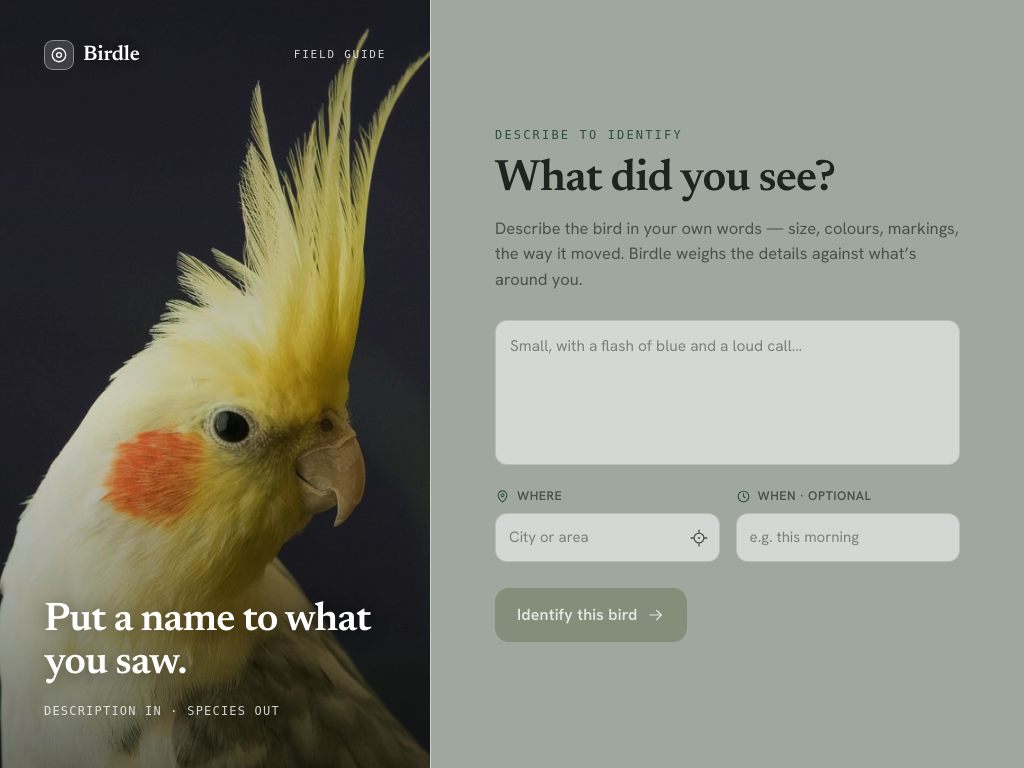
it: Home — HITL conversation flow › shows an inconclusive answer when no species is returned
The image size is (1024, 768).
Type "small red bird with a crest" into the text box named "what did you see" at (728, 393), box [495,320,960,465]
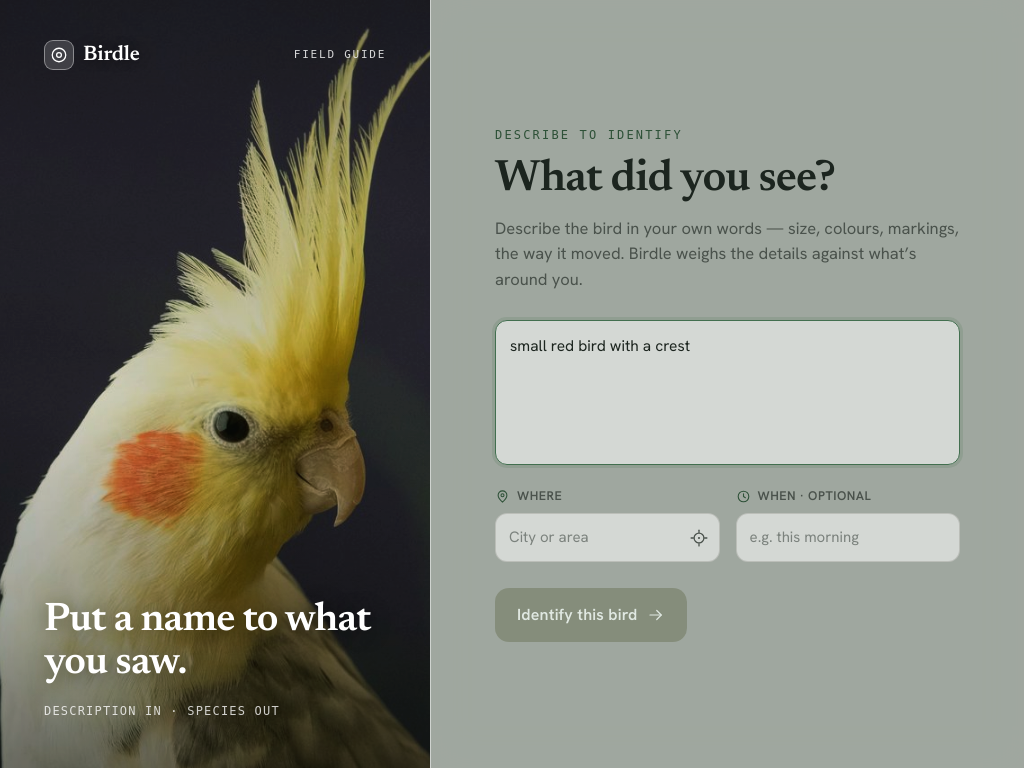
Type "New York" into the field labelled "Where" at (607, 538), box [495,514,720,562]
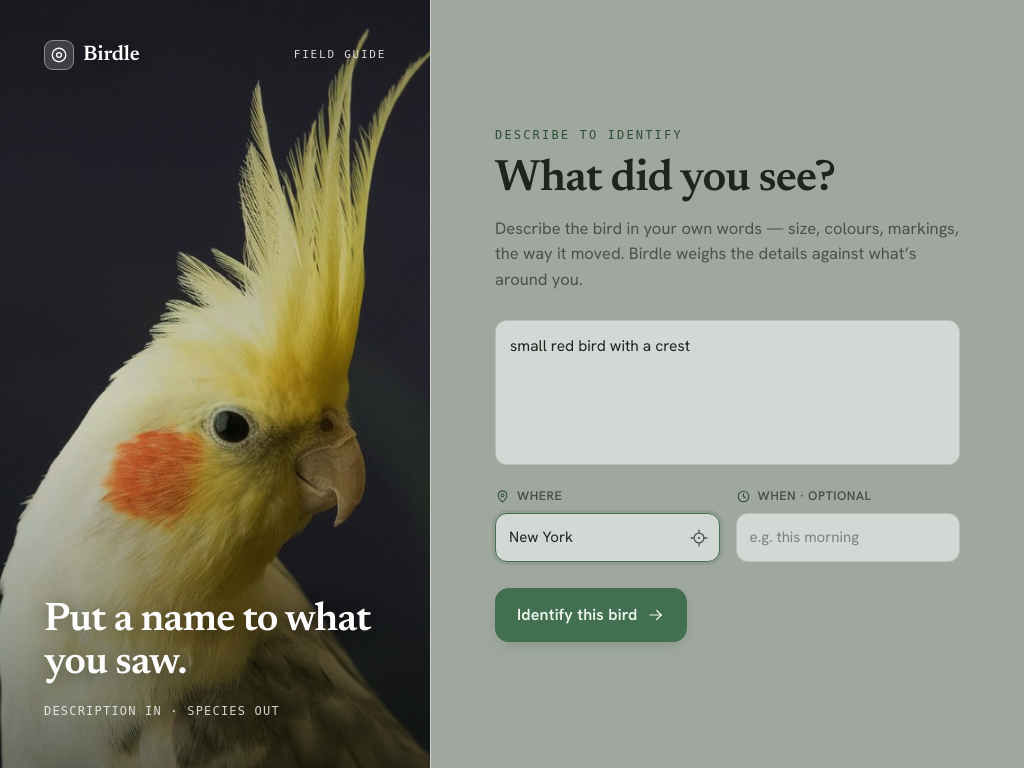
Click the button "Identify this bird" at (591, 615), box [495,588,687,642]
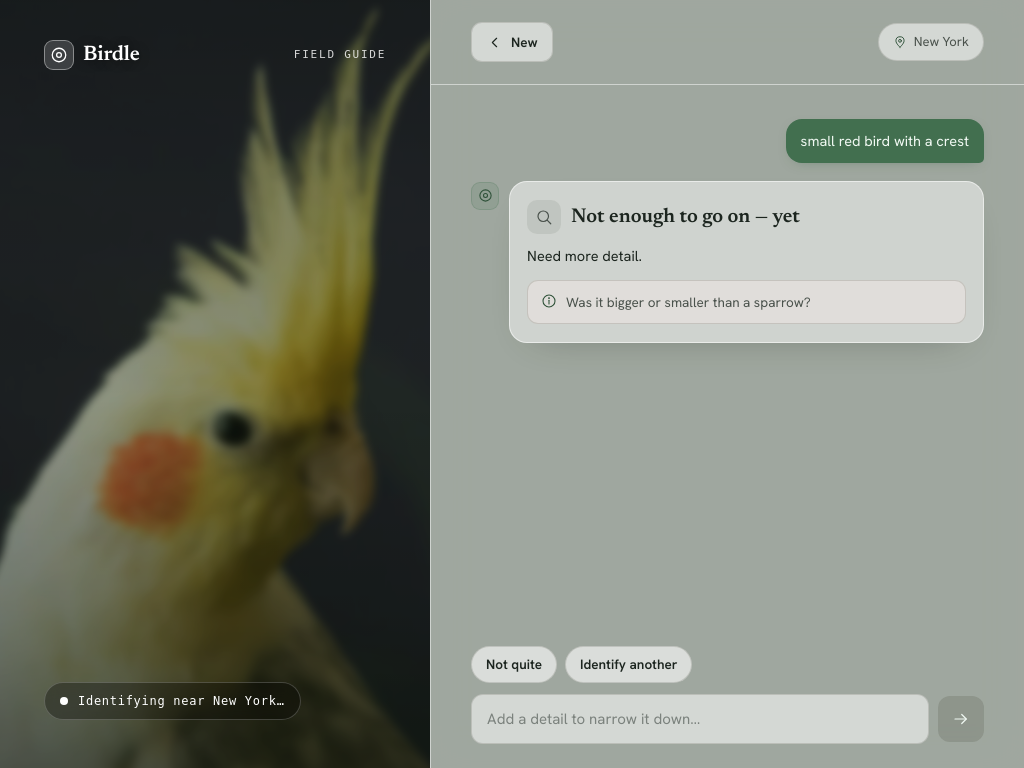
Expected: the text "Was it bigger or smaller than a sparrow?" is shown, [566,292,811,312]
